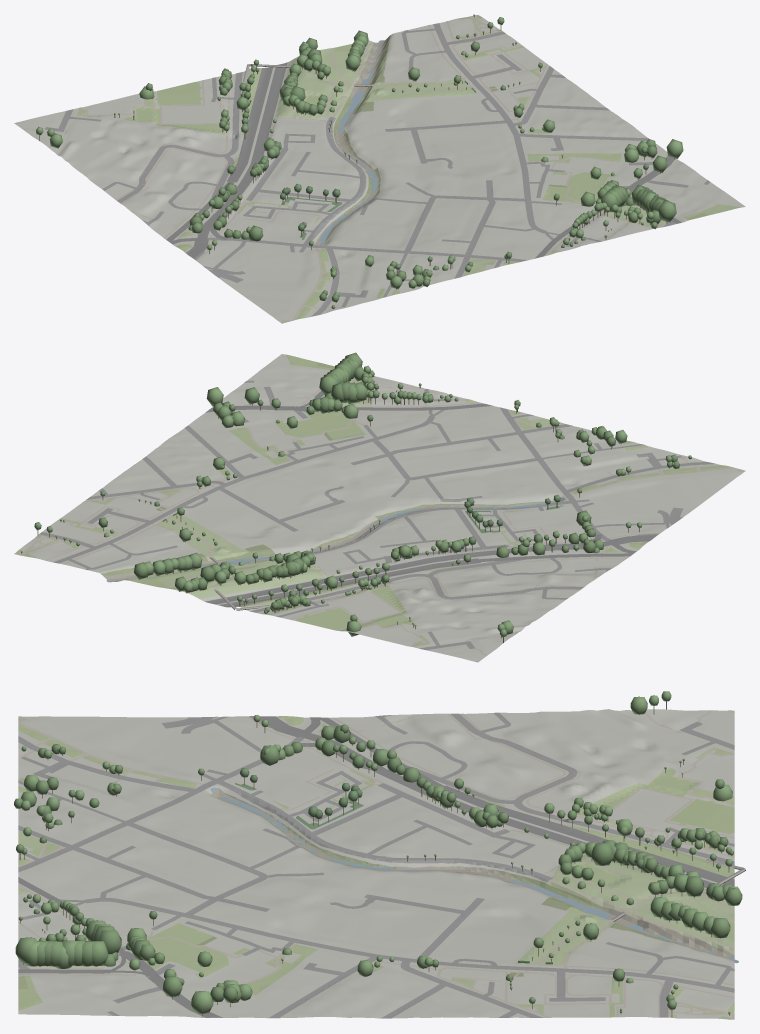
The picture shows the model from 3 angles, top to bottom: view 1: azimuth 30°, elevation 25°; view 2: azimuth 150°, elevation 25°; view 3: azimuth 270°, elevation 25°; orthographic projection. The views are drawn at different scales.
Parts seen in each view (by area): view 1: t10_09_terrain, t10_09_roads_minor, t10_09_trees_mapped, t10_09_roads_path, t10_09_roads_major, way/112885037@t10_09, way/616977718@t10_09, way/616977722@t10_09, way/683985206@t10_09, way/683985203@t10_09, way/160234174@t10_09; view 2: t10_09_terrain, t10_09_trees_mapped, t10_09_roads_minor, t10_09_roads_path, t10_09_roads_major, way/112885037@t10_09, way/616977718@t10_09, way/616977722@t10_09, way/683985206@t10_09, way/683985203@t10_09, way/1491811368@t10_09; view 3: t10_09_terrain, t10_09_trees_mapped, t10_09_roads_minor, t10_09_roads_path, t10_09_roads_major, way/112885037@t10_09, way/616977718@t10_09, way/616977722@t10_09, way/683985206@t10_09, way/1303491873@t10_09, way/160234174@t10_09, way/683985203@t10_09 (+6 smaller).
Part boxes in pixels (x1,y1,x2,y2): t10_09_terrain: (14,16,745,323); t10_09_roads_minor: (45,23,709,316); t10_09_trees_mapped: (36,14,683,308); t10_09_roads_path: (15,15,684,323); t10_09_roads_major: (166,62,681,258); way/112885037@t10_09: (274,41,374,118); way/616977718@t10_09: (315,38,387,244); way/616977722@t10_09: (364,79,477,102); way/683985206@t10_09: (567,172,616,204); way/683985203@t10_09: (527,153,621,161); way/160234174@t10_09: (155,93,202,104); t10_09_terrain: (14,354,744,662); t10_09_trees_mapped: (21,352,691,642); t10_09_roads_minor: (39,380,715,649); t10_09_roads_path: (14,379,745,661); t10_09_roads_major: (205,391,657,607); way/112885037@t10_09: (123,558,324,598); way/616977718@t10_09: (104,499,562,581); way/616977722@t10_09: (158,514,248,561); way/683985206@t10_09: (274,411,350,437); way/683985203@t10_09: (229,427,290,464); way/1491811368@t10_09: (339,585,406,621); t10_09_terrain: (18,709,734,1019); t10_09_trees_mapped: (14,691,742,1017); t10_09_roads_minor: (18,712,734,1018); t10_09_roads_path: (18,710,734,1019); t10_09_roads_major: (18,716,734,1017); way/112885037@t10_09: (549,854,734,955); way/616977718@t10_09: (212,787,734,961); way/616977722@t10_09: (515,906,614,965); way/683985206@t10_09: (129,937,228,978); way/1303491873@t10_09: (462,791,734,879); way/160234174@t10_09: (669,799,726,826); way/683985203@t10_09: (247,944,317,994).
Size of the model in its own units: 509 by 29.35 by 511.
